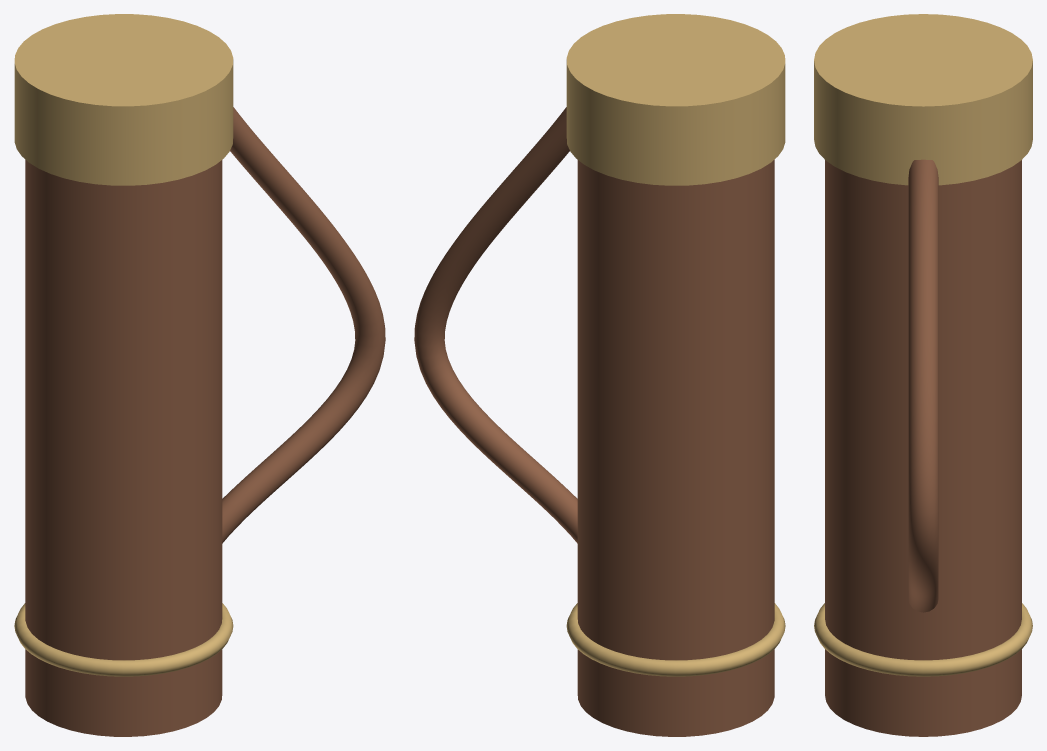
Rendered from griffin-airmail-roost-and-posthouse-message-scroll-cas-2244e6a4__30528.glb.
The picture shows the model from 3 angles, left to right: view 1: azimuth 30°, elevation 25°; view 2: azimuth 150°, elevation 25°; view 3: azimuth 270°, elevation 25°; orthographic projection.
Visible parts, largest first — view 1: message-scroll-case; view 2: message-scroll-case; view 3: message-scroll-case.
Boxes of the visible parts, <box> form: message-scroll-case: <box>14,14,385,736</box>; message-scroll-case: <box>414,14,785,736</box>; message-scroll-case: <box>814,14,1032,736</box>.
Bounding box in the file's own units: 0.187 × 0.32 × 0.1.
